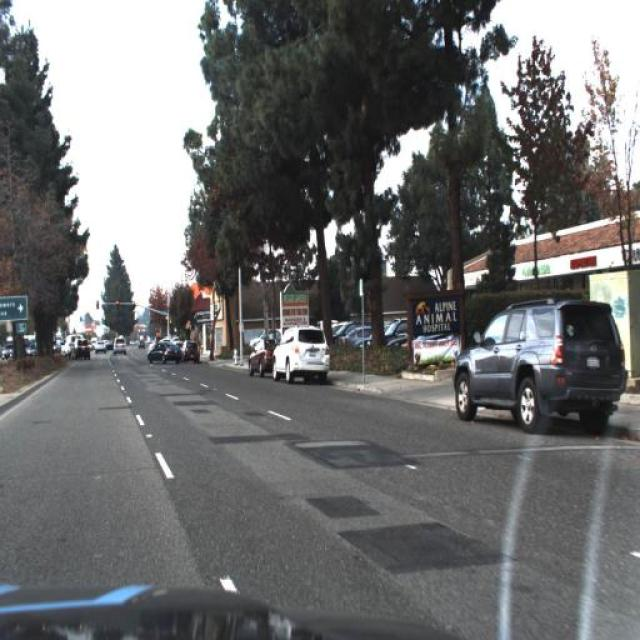car: (448, 292, 632, 428), (269, 318, 333, 382), (246, 330, 276, 384), (142, 337, 189, 369), (332, 322, 378, 349), (377, 314, 414, 344), (72, 332, 96, 362), (181, 336, 203, 365), (111, 331, 132, 359)
